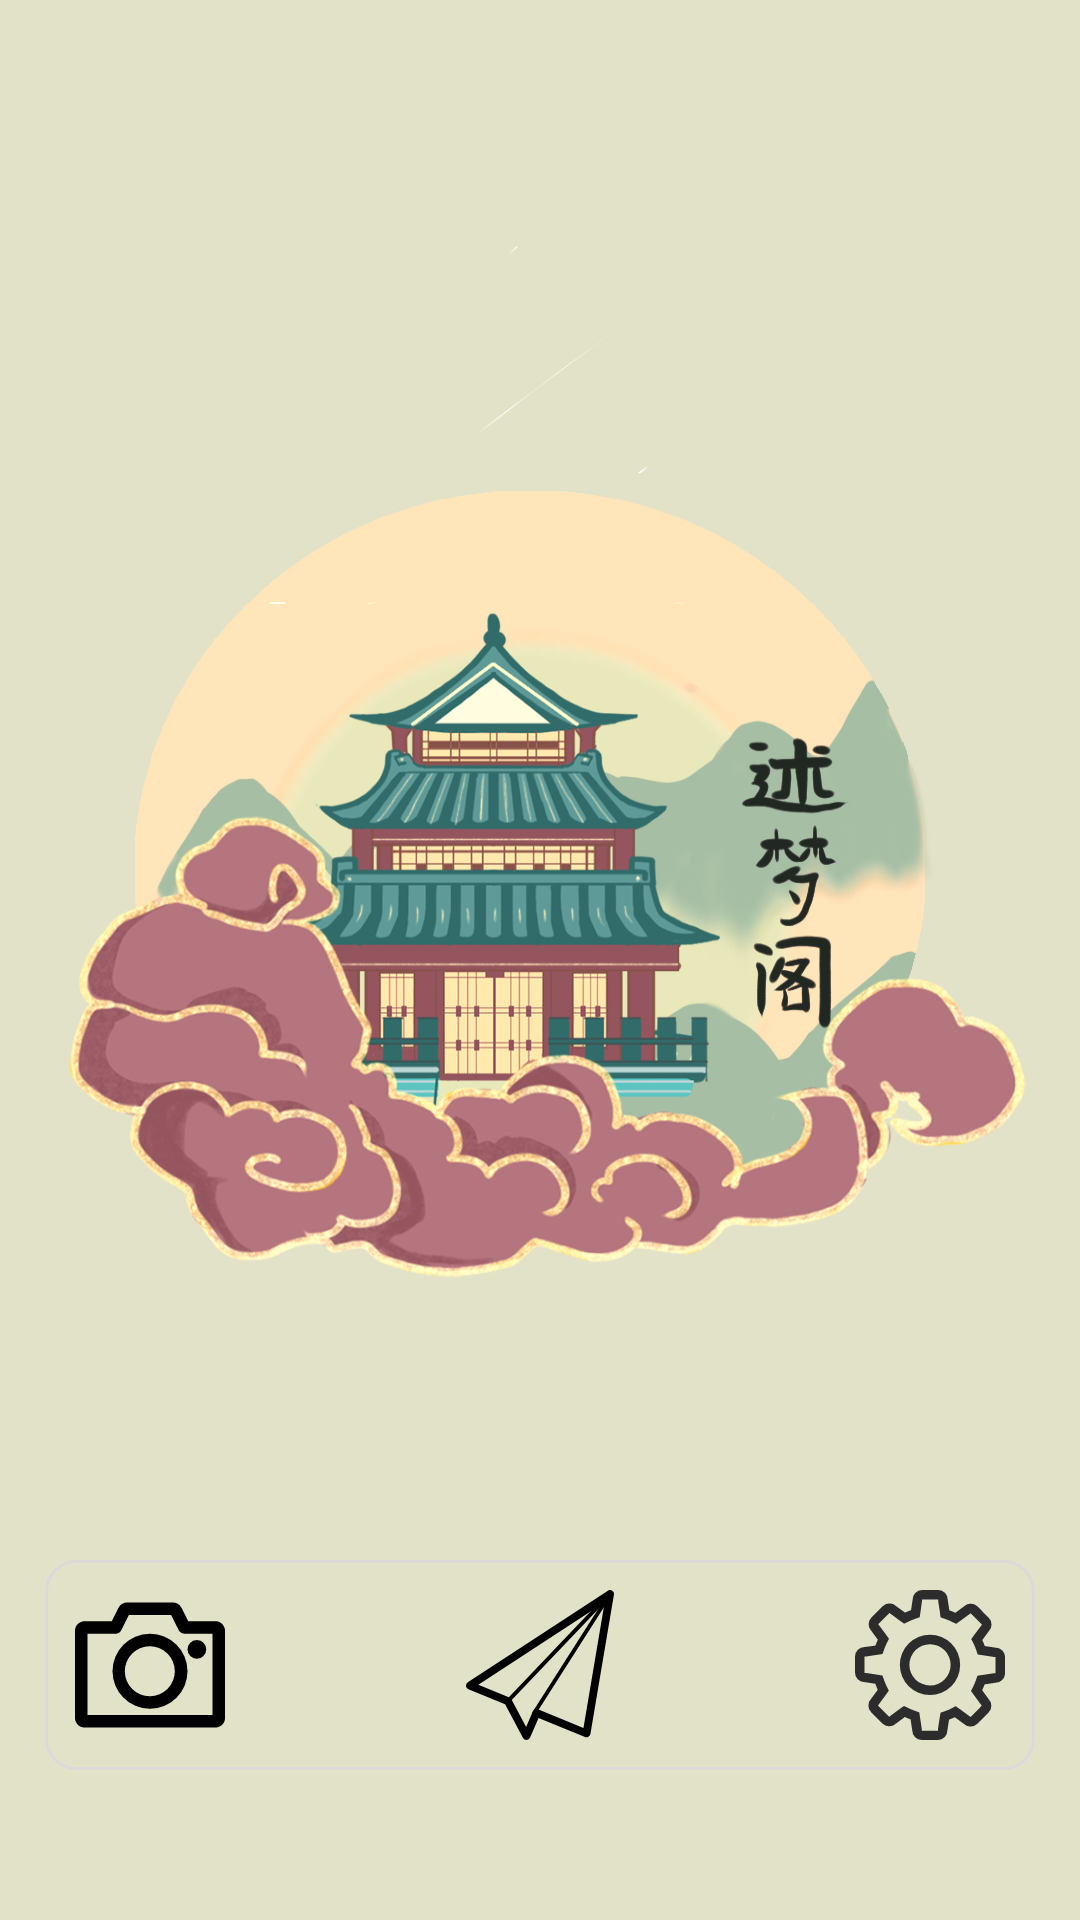

Screen size 1080w x 1920h. Icon name, then its center in pixels as point (x, y):
paper airplane: point (540, 1665)
photo: point (150, 1665)
settings: point (930, 1665)
